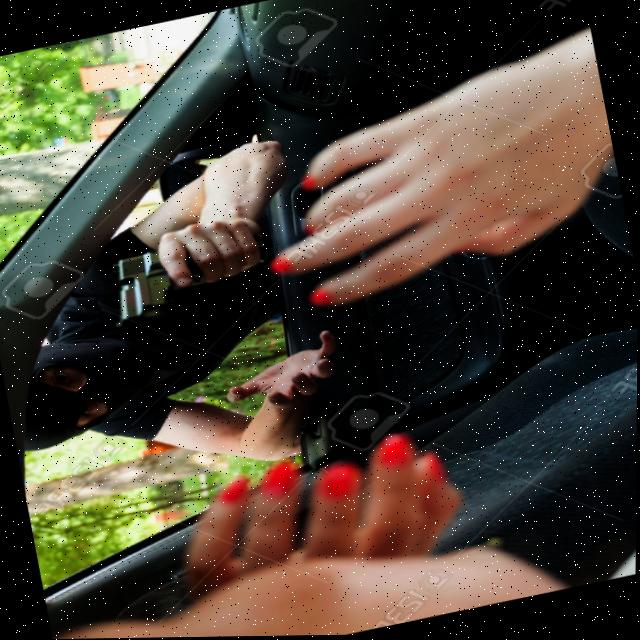pistol: (104, 242, 212, 334)
